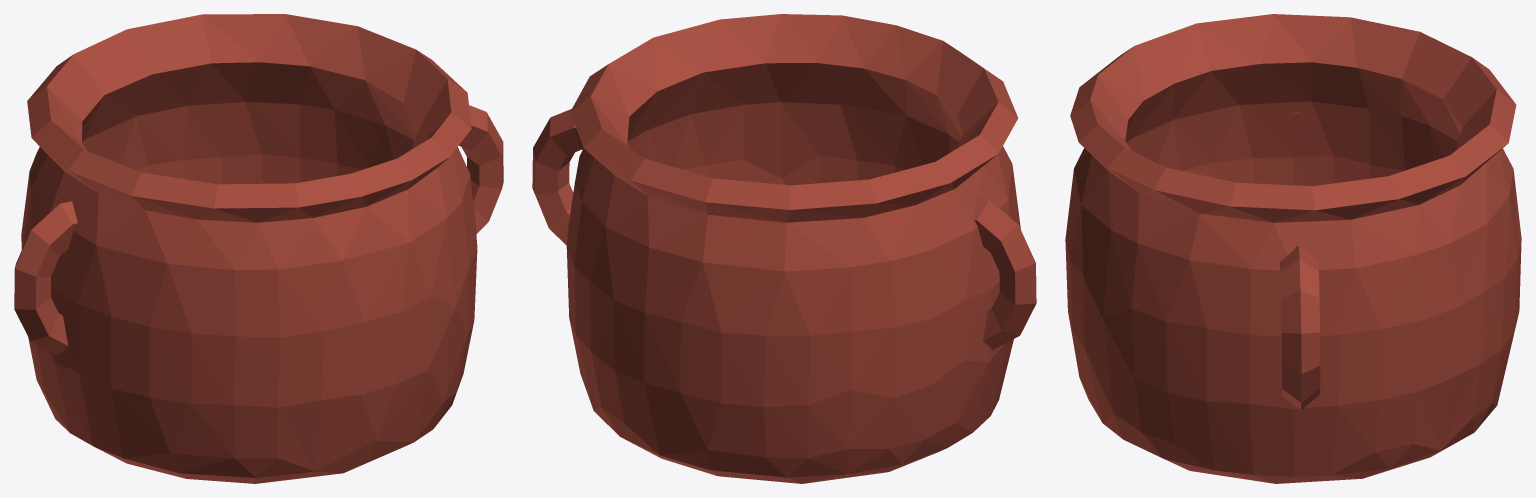
The model's file is Pottery 6_3.fbx.
The picture shows the model from 3 angles, left to right: view 1: azimuth 30°, elevation 25°; view 2: azimuth 150°, elevation 25°; view 3: azimuth 270°, elevation 25°; orthographic projection.
Visible parts, largest first — view 1: Pottery 6_3; view 2: Pottery 6_3; view 3: Pottery 6_3.
Boxes of the visible parts, box(x1,y1,x2,y2) form: Pottery 6_3: box(14, 14, 503, 483); Pottery 6_3: box(532, 14, 1036, 483); Pottery 6_3: box(1065, 14, 1521, 483).
Size of the model in its own units: 64.97 by 39.4 by 51.68.
